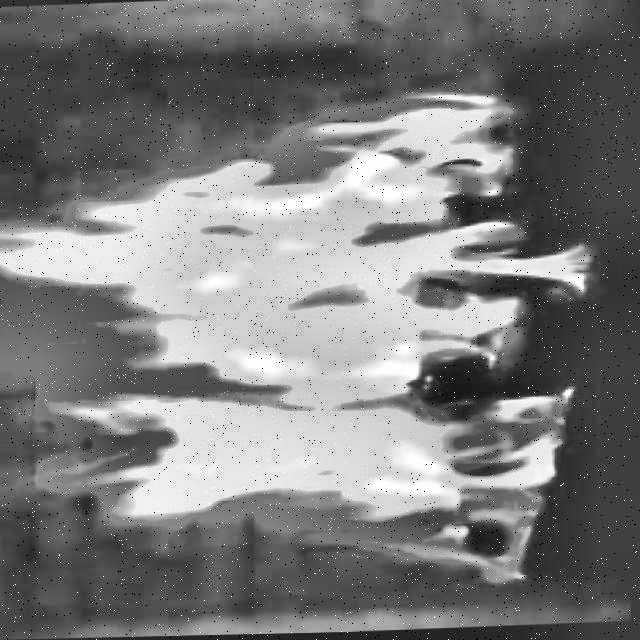Fire: (0, 81, 612, 617)
